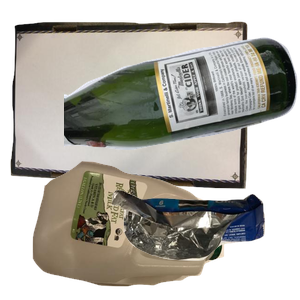cardboard: (10, 19, 250, 199)
glass: (64, 35, 300, 181)
plastic: (30, 159, 247, 300)
trash: (109, 187, 300, 300)
